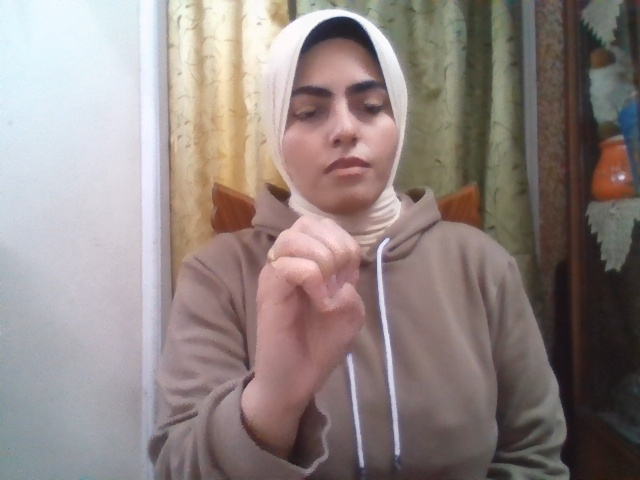E: (256, 215, 366, 414)
